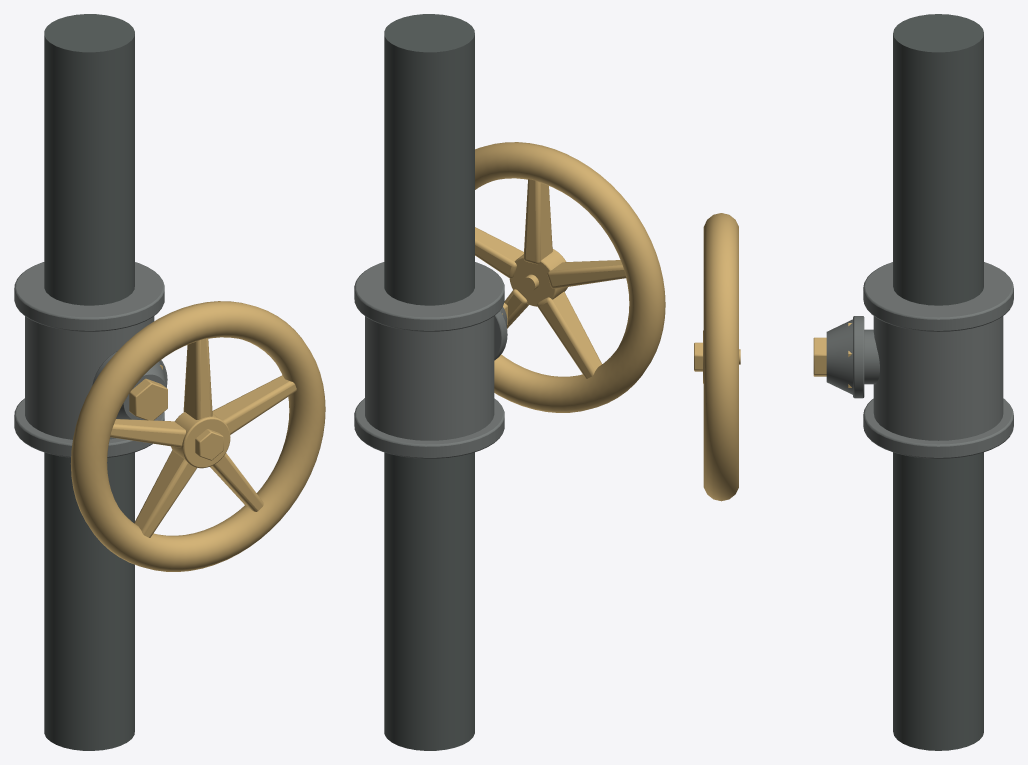
File: valve-wheel.glb
The picture shows the model from 3 angles, left to right: view 1: azimuth 30°, elevation 25°; view 2: azimuth 150°, elevation 25°; view 3: azimuth 270°, elevation 25°; orthographic projection.
Visible parts, largest first — view 1: pipe, wheel_assembly, body_assembly; view 2: pipe, wheel_assembly, body_assembly; view 3: pipe, body_assembly, wheel_assembly.
Part boxes in pixels (x1,y1,x2,y2): pipe: [44, 14, 134, 750]; wheel_assembly: [70, 301, 325, 571]; body_assembly: [14, 262, 167, 457]; pipe: [384, 14, 474, 750]; wheel_assembly: [475, 142, 665, 412]; body_assembly: [354, 262, 507, 458]; pipe: [893, 14, 983, 750]; body_assembly: [813, 262, 1013, 458]; wheel_assembly: [694, 213, 740, 501].
Size of the model in its own units: 0.824 by 2.2 by 0.913.
